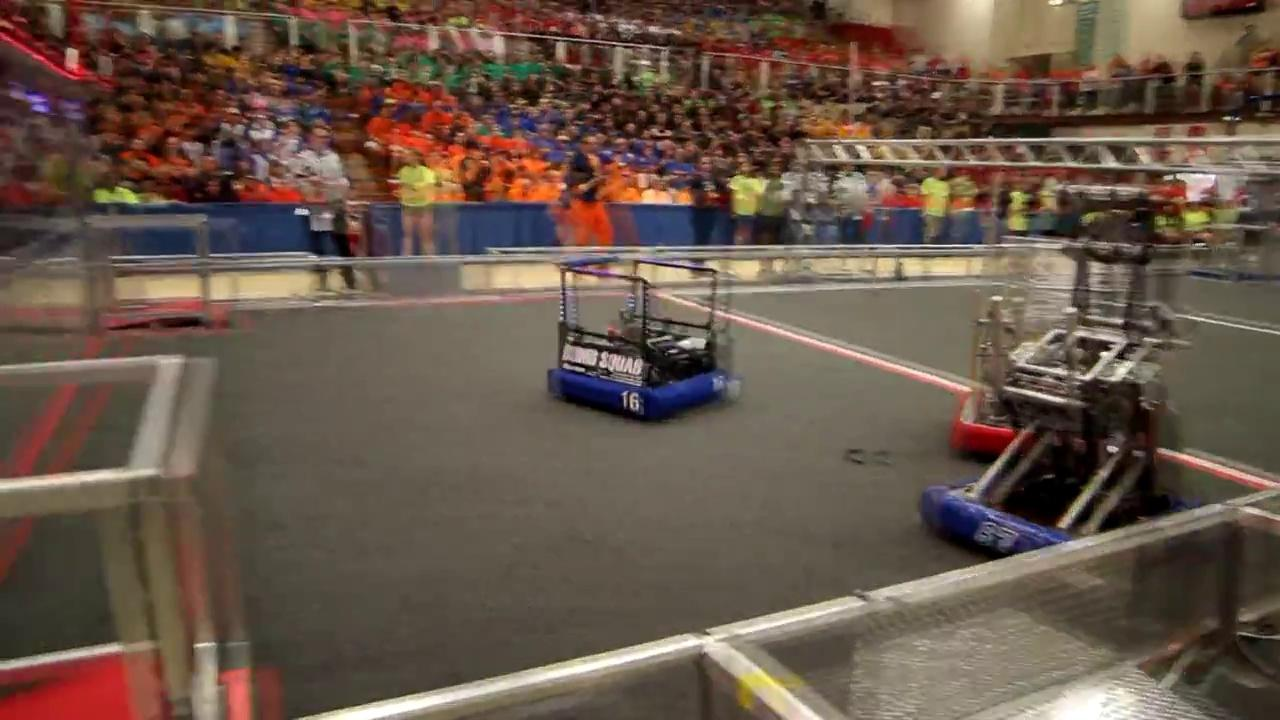robot: (912, 204, 1214, 585), (547, 255, 738, 427), (952, 236, 1078, 468)
